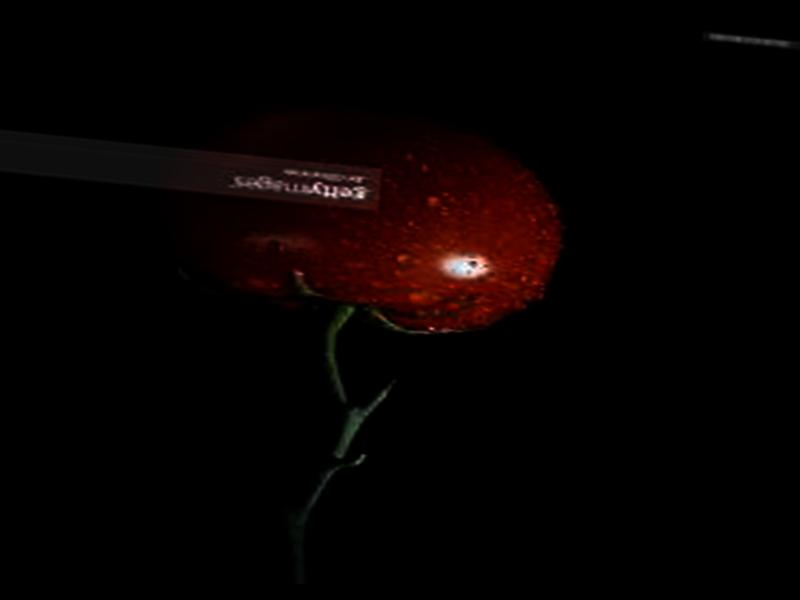Tomato: (162, 94, 571, 341)
